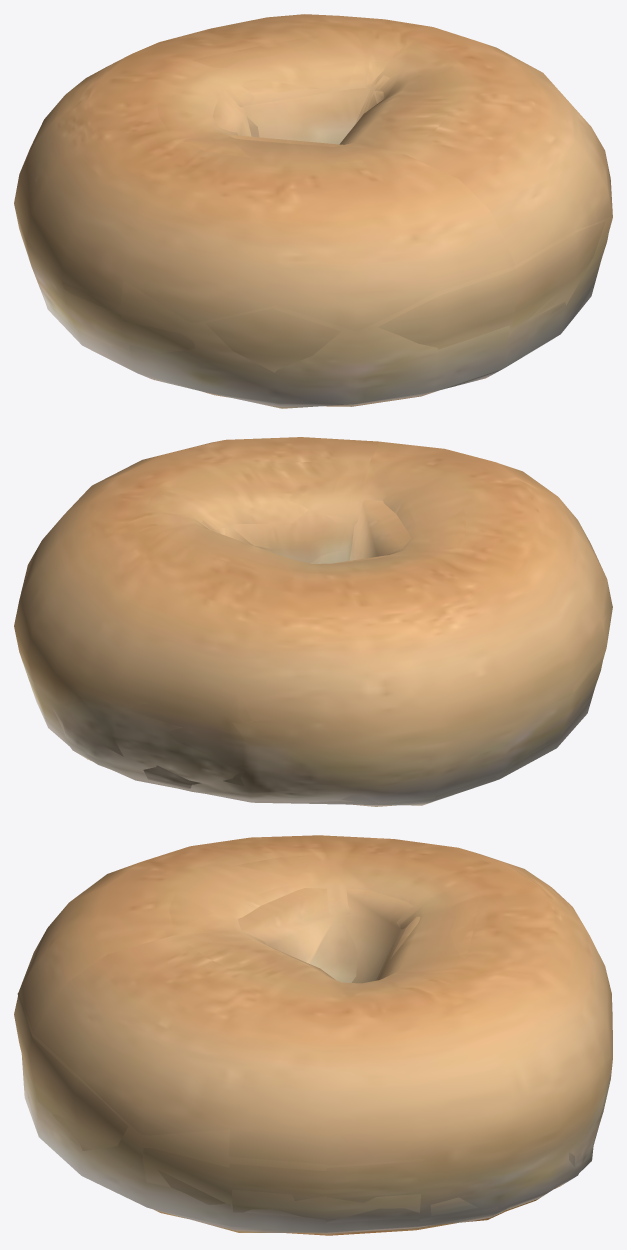
The model's file is imp-bagel.glb.
3 renders of one model, top to bottom at view 1: azimuth 30°, elevation 25°; view 2: azimuth 150°, elevation 25°; view 3: azimuth 270°, elevation 25°, orthographic. The views are drawn at different scales.
Parts seen in each view (by area): view 1: Kerbside_metres_ground_pivot (×3); view 2: Kerbside_metres_ground_pivot (×3); view 3: Kerbside_metres_ground_pivot (×3).
Boxes of the visible parts, bbox=[...] form: Kerbside_metres_ground_pivot (×3): bbox=[14, 14, 612, 408]; Kerbside_metres_ground_pivot (×3): bbox=[14, 437, 612, 806]; Kerbside_metres_ground_pivot (×3): bbox=[14, 835, 612, 1235].
Size of the model in its own units: 0.12 by 0.0439 by 0.1143.
1 material, 1 textured.
